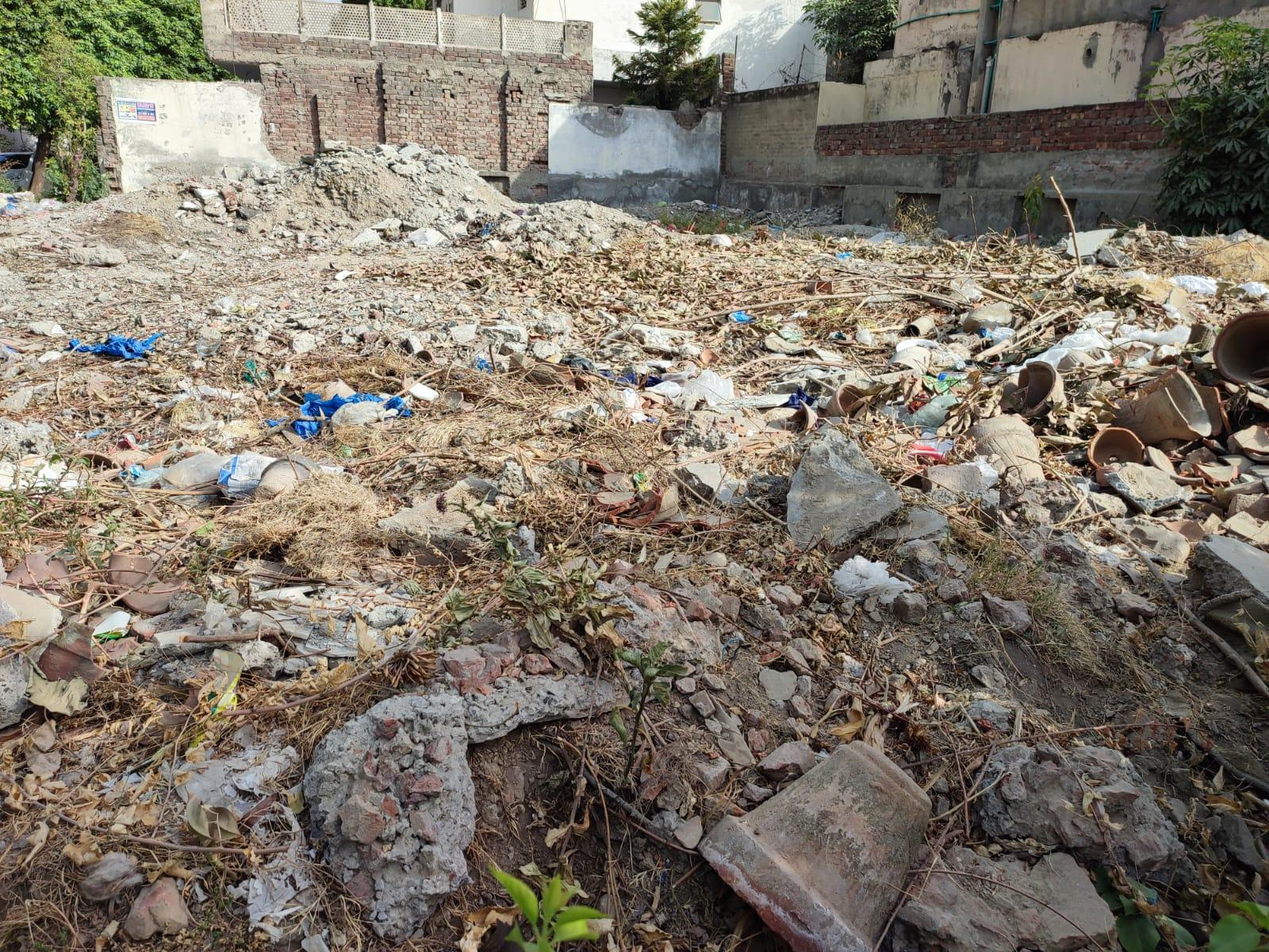garbage: (53, 203, 1269, 667)
